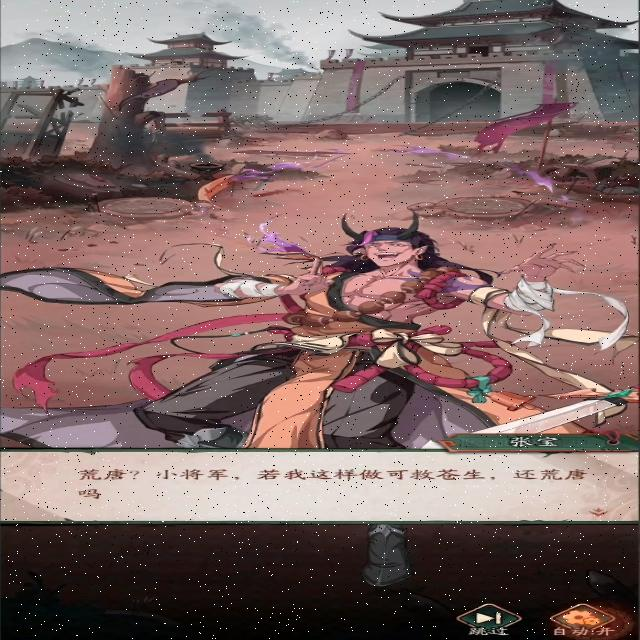system-auto: (546, 600, 623, 638)
system-skip: (454, 599, 518, 639)
